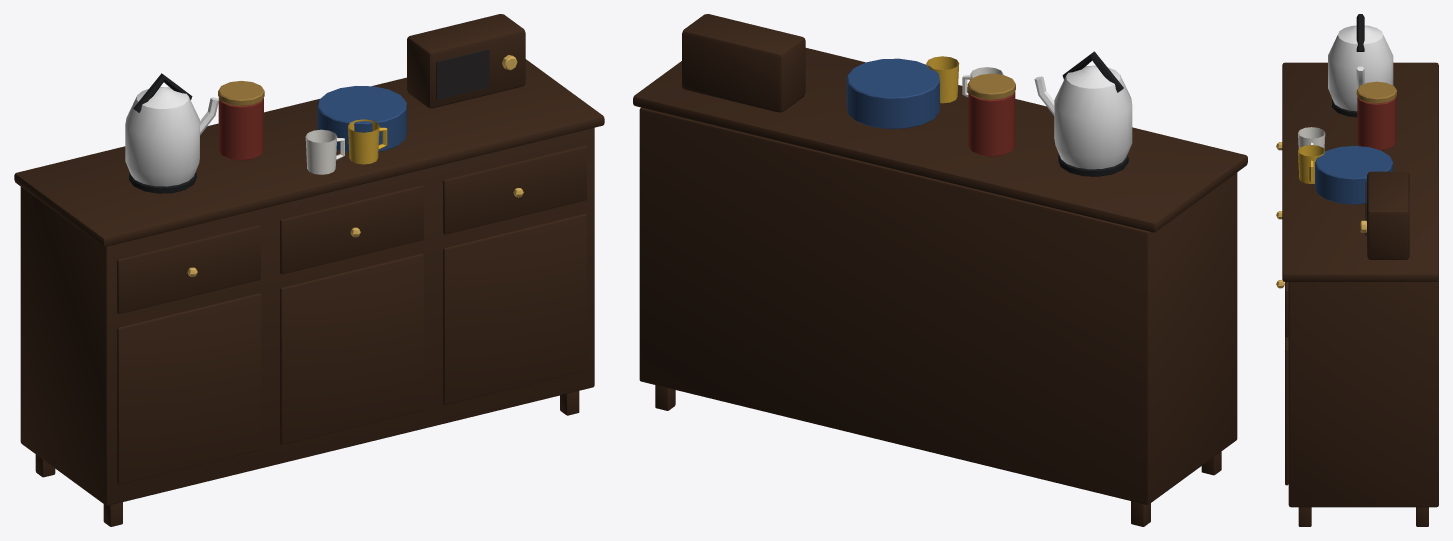
File: mae_sideboard.glb
3 renders of one model, left to right at view 1: azimuth 30°, elevation 25°; view 2: azimuth 150°, elevation 25°; view 3: azimuth 270°, elevation 25°, orthographic. The views are drawn at different scales.
Visible parts, largest first — view 1: mae_sideboard; view 2: mae_sideboard; view 3: mae_sideboard.
Boxes of the visible parts, x1,y1,x2,y2 form: mae_sideboard: (14,14,604,526); mae_sideboard: (633,14,1247,526); mae_sideboard: (1276,14,1438,526).
Size of the model in its own units: 1.54 by 1.19 by 0.499.
